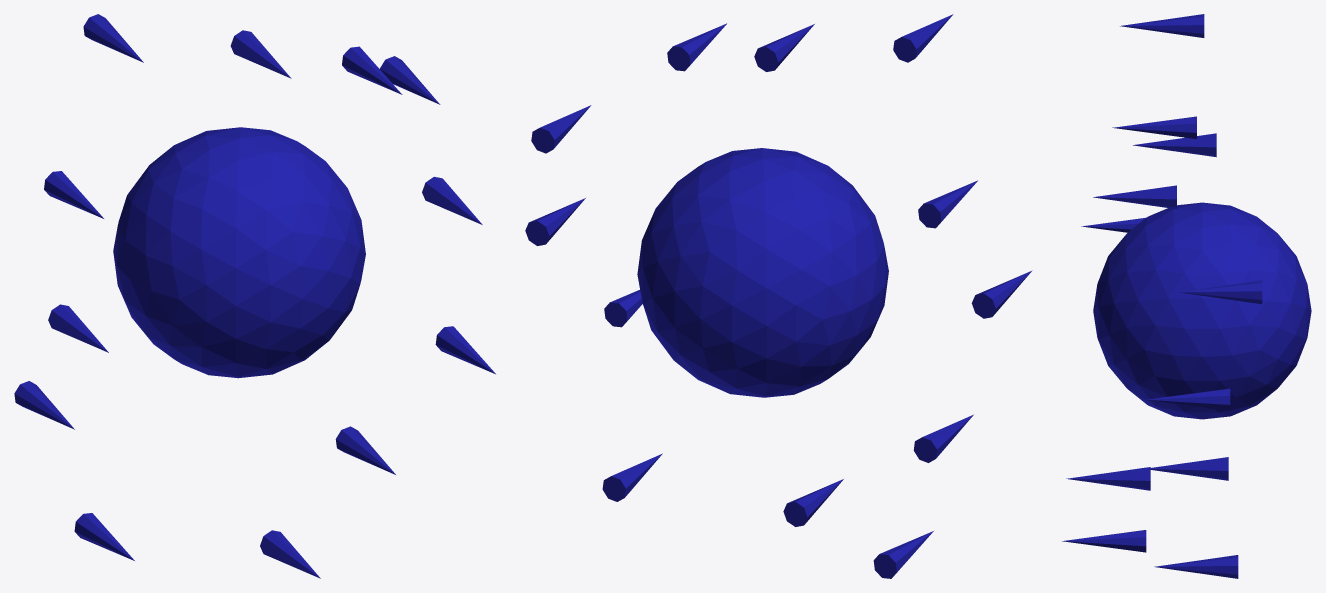
File: tech_145.glb
3 renders of one model, left to right at view 1: azimuth 30°, elevation 25°; view 2: azimuth 150°, elevation 25°; view 3: azimuth 270°, elevation 25°, orthographic. The views are drawn at different scales.
Visible parts, largest first — view 1: world; view 2: world; view 3: world.
Boxes of the visible parts, left/top/right/bottom form: world: left=14, top=14, right=495, bottom=578; world: left=525, top=14, right=1032, bottom=578; world: left=1062, top=14, right=1311, bottom=578.
Bounding box in the file's own units: 1.79 × 2.17 × 1.03.
